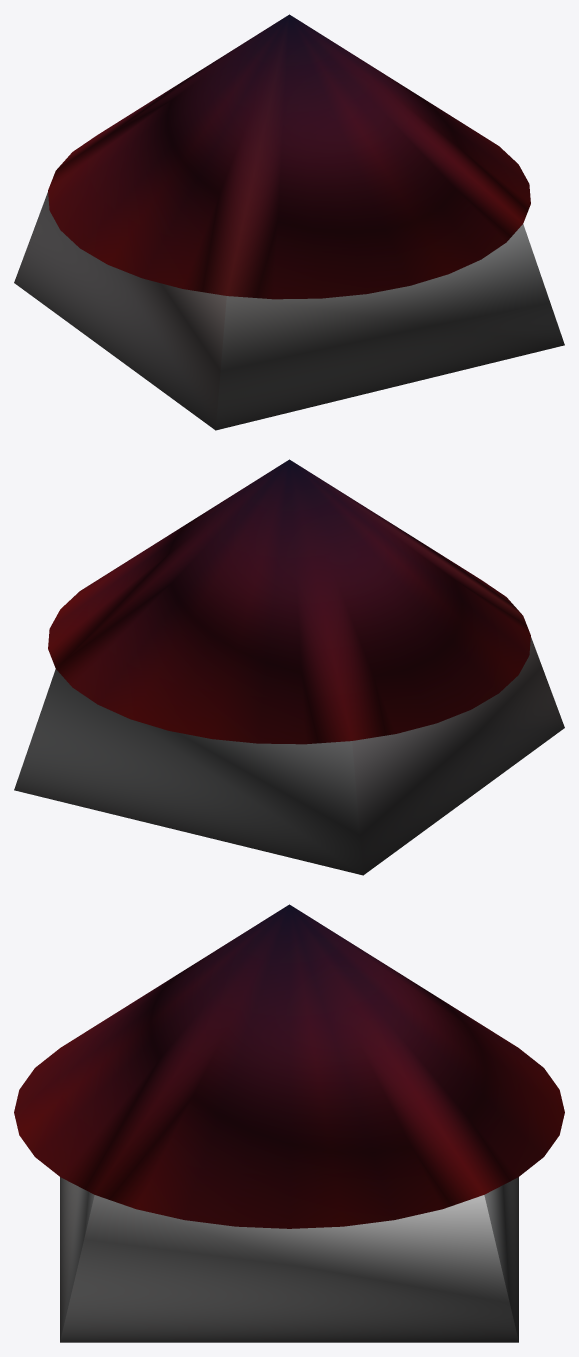
File: tent.fbx
The picture shows the model from 3 angles, top to bottom: view 1: azimuth 30°, elevation 25°; view 2: azimuth 150°, elevation 25°; view 3: azimuth 270°, elevation 25°; orthographic projection. The views are drawn at different scales.
Visible parts, largest first — view 1: Cube; view 2: Cube; view 3: Cube.
Part boxes in pixels (left/top/right/bottom): Cube: left=14, top=14, right=564, bottom=430; Cube: left=14, top=459, right=564, bottom=875; Cube: left=14, top=904, right=564, bottom=1342.
Bounding box in the file's own units: 4.8 × 3.28 × 4.8.
